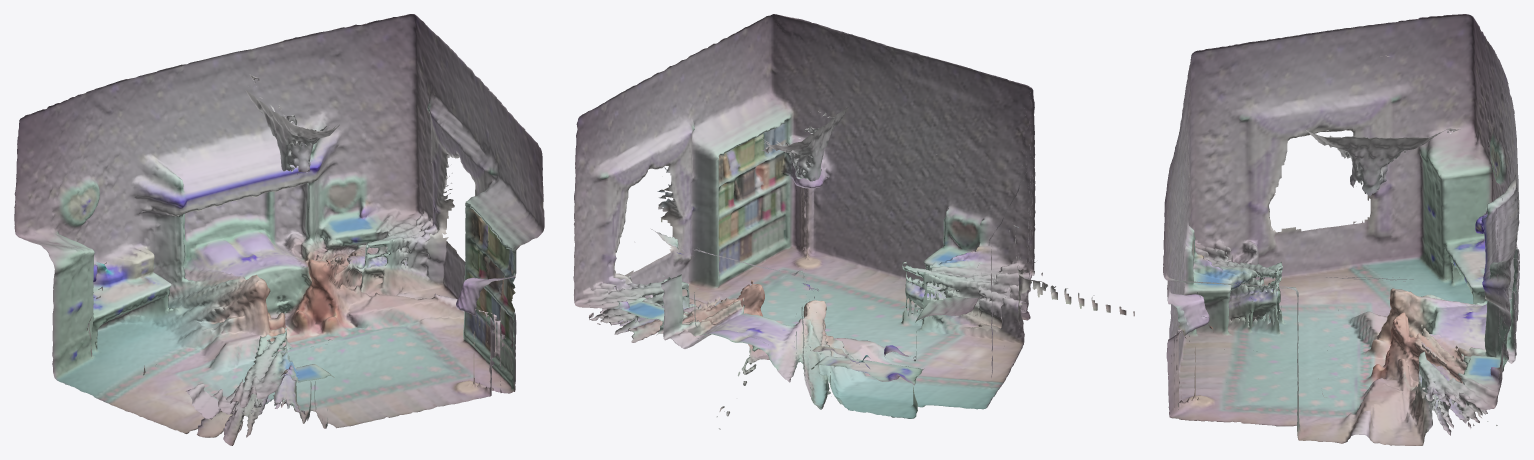
Rendered from lovely-mint-interior_collider.glb.
3 views of the same model, side by side, from view 1: azimuth 30°, elevation 25°; view 2: azimuth 150°, elevation 25°; view 3: azimuth 270°, elevation 25° (orthographic). The views are drawn at different scales.
Parts seen in each view (by area): view 1: world; view 2: world; view 3: world.
Boxes of the visible parts, x1,y1,x2,y2 form: world: (14, 14, 544, 445); world: (573, 14, 1134, 429); world: (1163, 14, 1519, 445).
Bounding box in the file's own units: 7.7 × 4.85 × 5.15.
